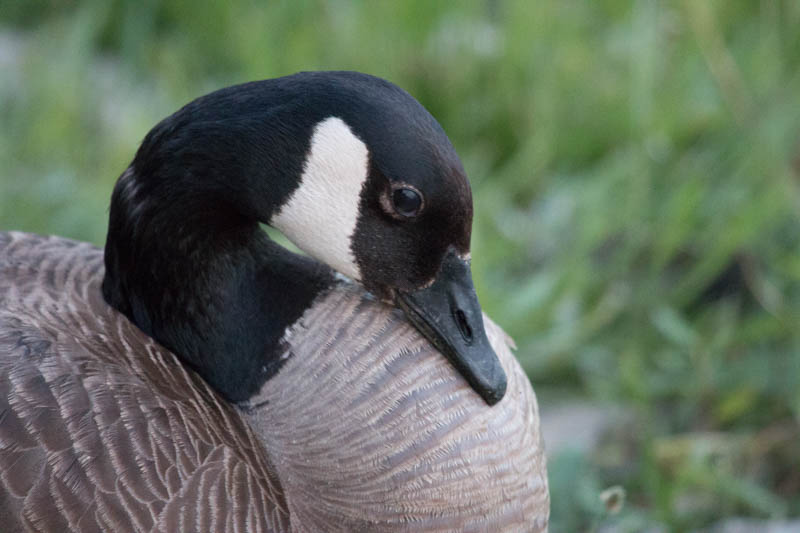goose-head: (245, 70, 508, 408)
